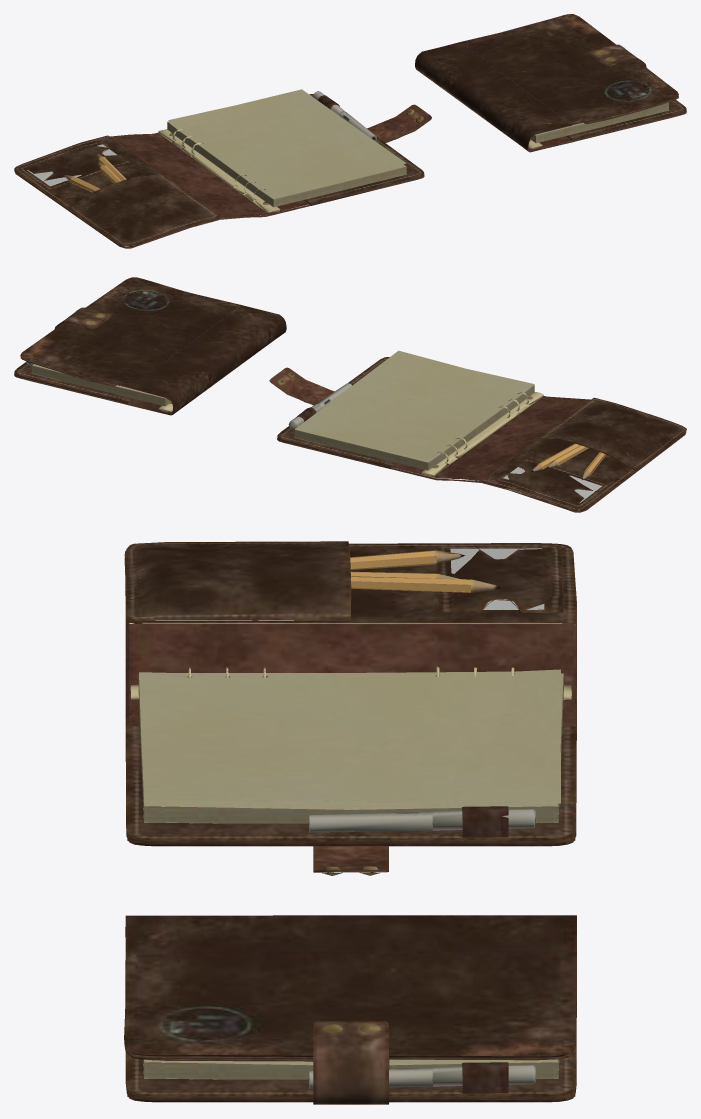
The model's file is binder_notebook.glb.
3 views of the same model, one above another, from view 1: azimuth 30°, elevation 25°; view 2: azimuth 150°, elevation 25°; view 3: azimuth 270°, elevation 25° (orthographic). The views are drawn at different scales.
Visible parts, largest first — view 1: binder_notebook, binder_notebook_closed; view 2: binder_notebook, binder_notebook_closed; view 3: binder_notebook, binder_notebook_closed.
Boxes of the visible parts, left/top/right/bottom form: binder_notebook: left=14, top=89, right=431, bottom=248; binder_notebook_closed: left=415, top=14, right=686, bottom=152; binder_notebook: left=269, top=350, right=686, bottom=512; binder_notebook_closed: left=14, top=277, right=286, bottom=415; binder_notebook: left=124, top=541, right=576, bottom=875; binder_notebook_closed: left=124, top=915, right=576, bottom=1104.
Size of the model in its own units: 0.5837 by 0.0251 by 0.1999.
1 material, 1 textured.
